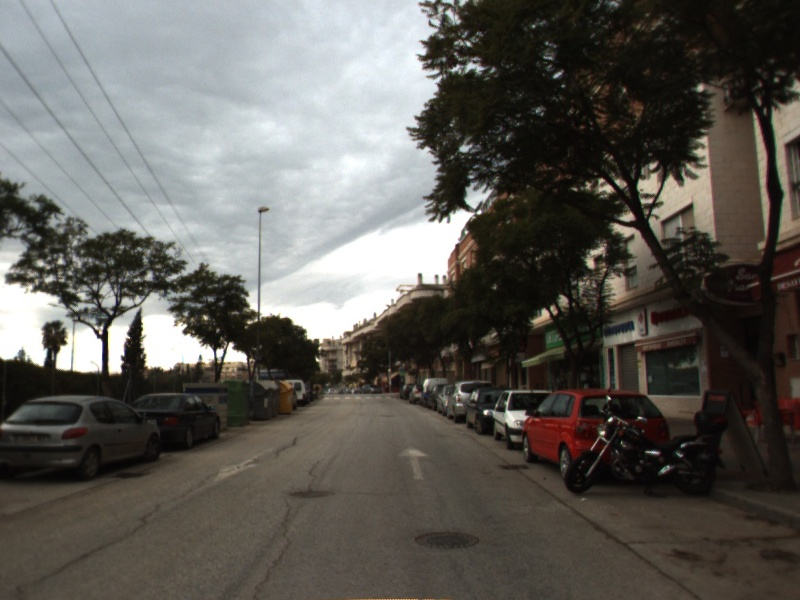STRAIGHT: (395, 443, 433, 482)
